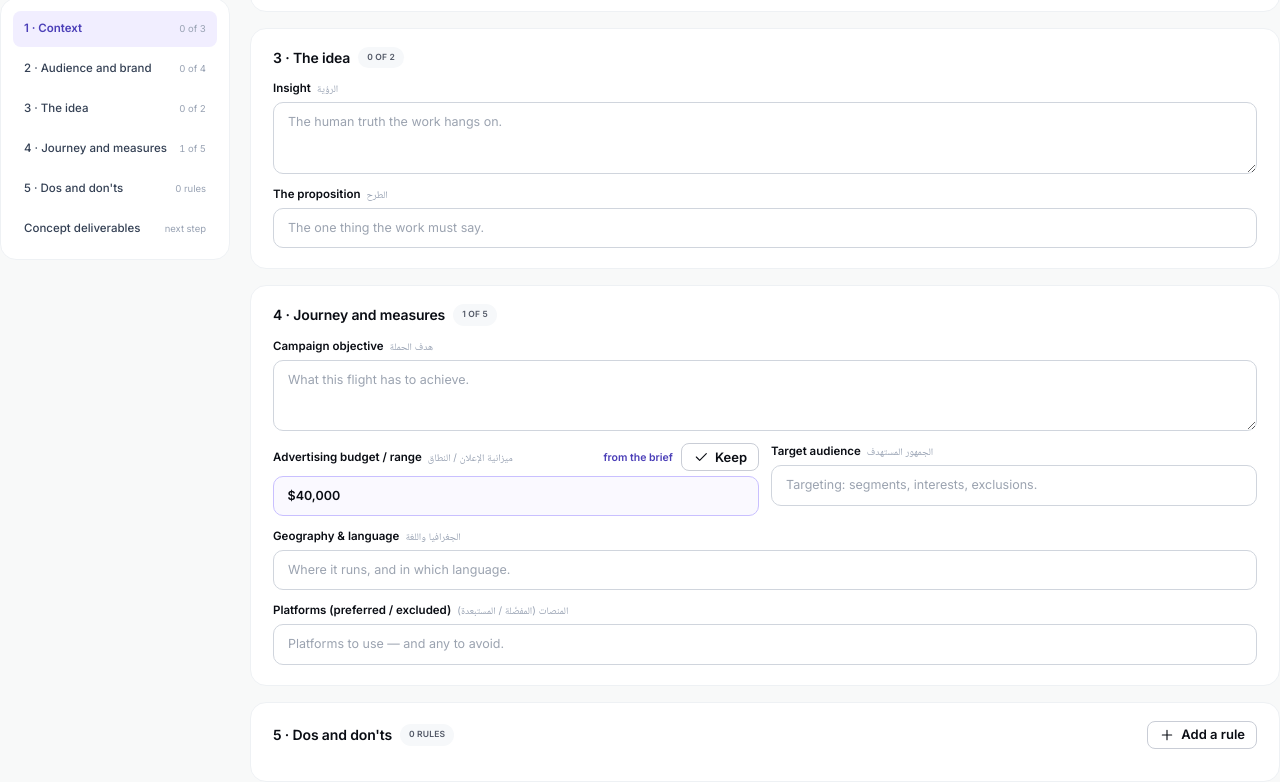
BriefStepContainer › drops the marker the moment the field is edited
(page scrolled)
Check: the element with test id "brief-perfBudget-suggested" is shown, box [604, 443, 759, 471]
Replace the text in the field with test id "brief-perfBudget" with "$40,000 — signed off 12 Sep" at (516, 496), box [273, 476, 759, 516]
(page scrolled)
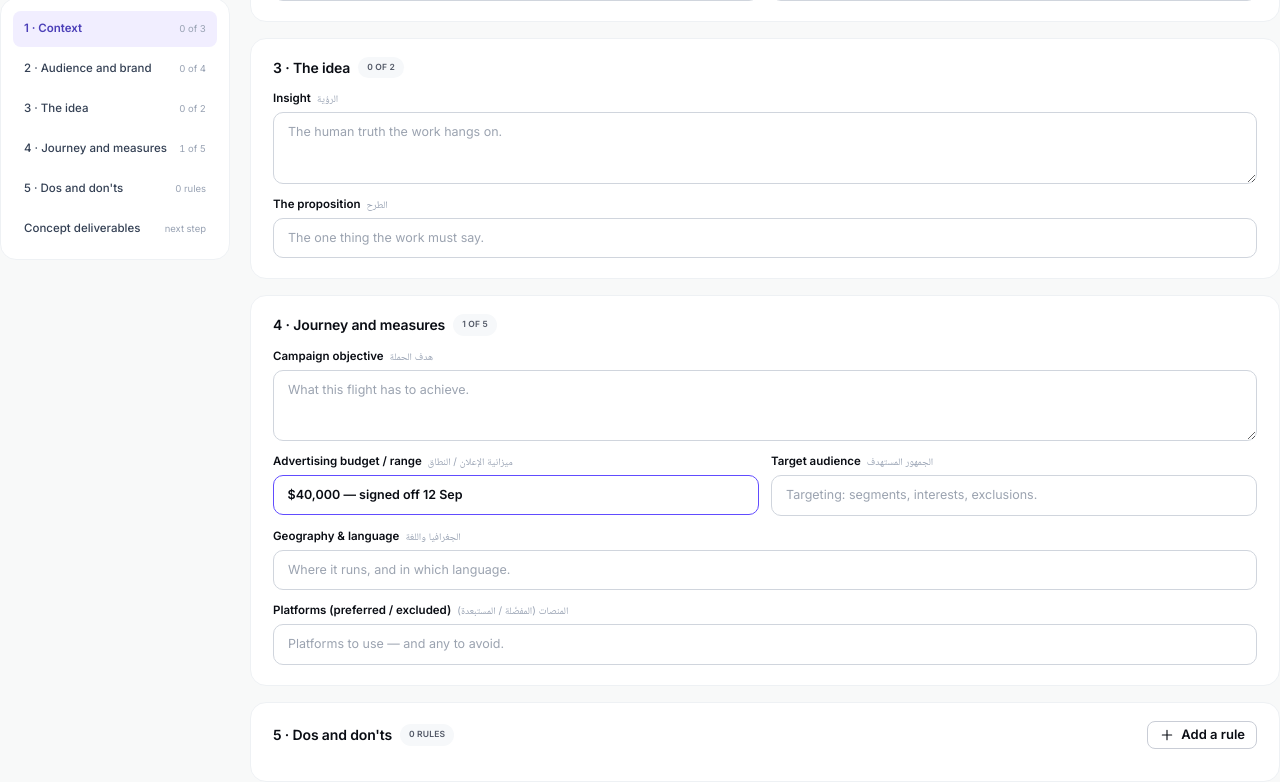
Check: the element with test id "brief-perfBudget-suggested" is gone
